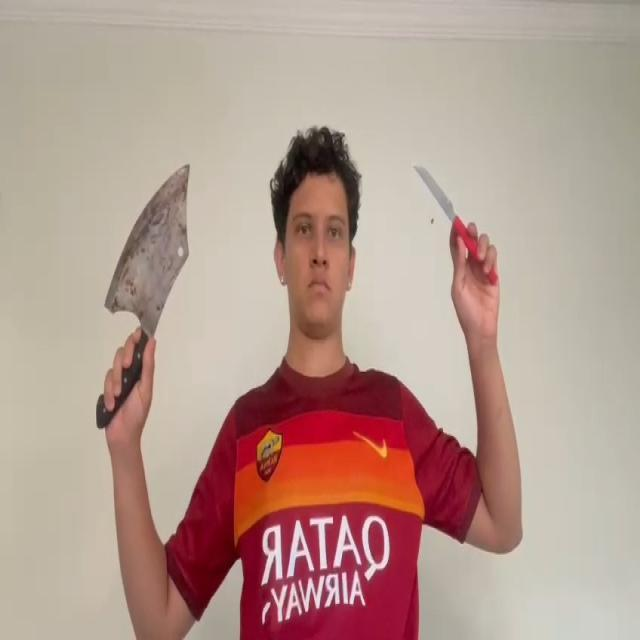knife: (103, 162, 191, 314), (414, 163, 456, 216)
